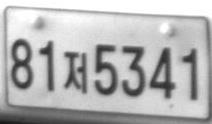1: (179, 47, 204, 100), (36, 40, 61, 91)
3: (120, 44, 146, 97)
4: (149, 46, 176, 99)
5: (93, 43, 118, 95)
8: (9, 37, 33, 89)
저: (62, 50, 88, 95)
